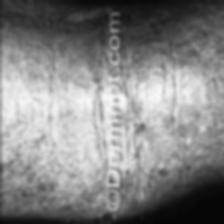Non-Cancerous Skin Condition: (0, 33, 98, 220), (130, 14, 224, 170)
